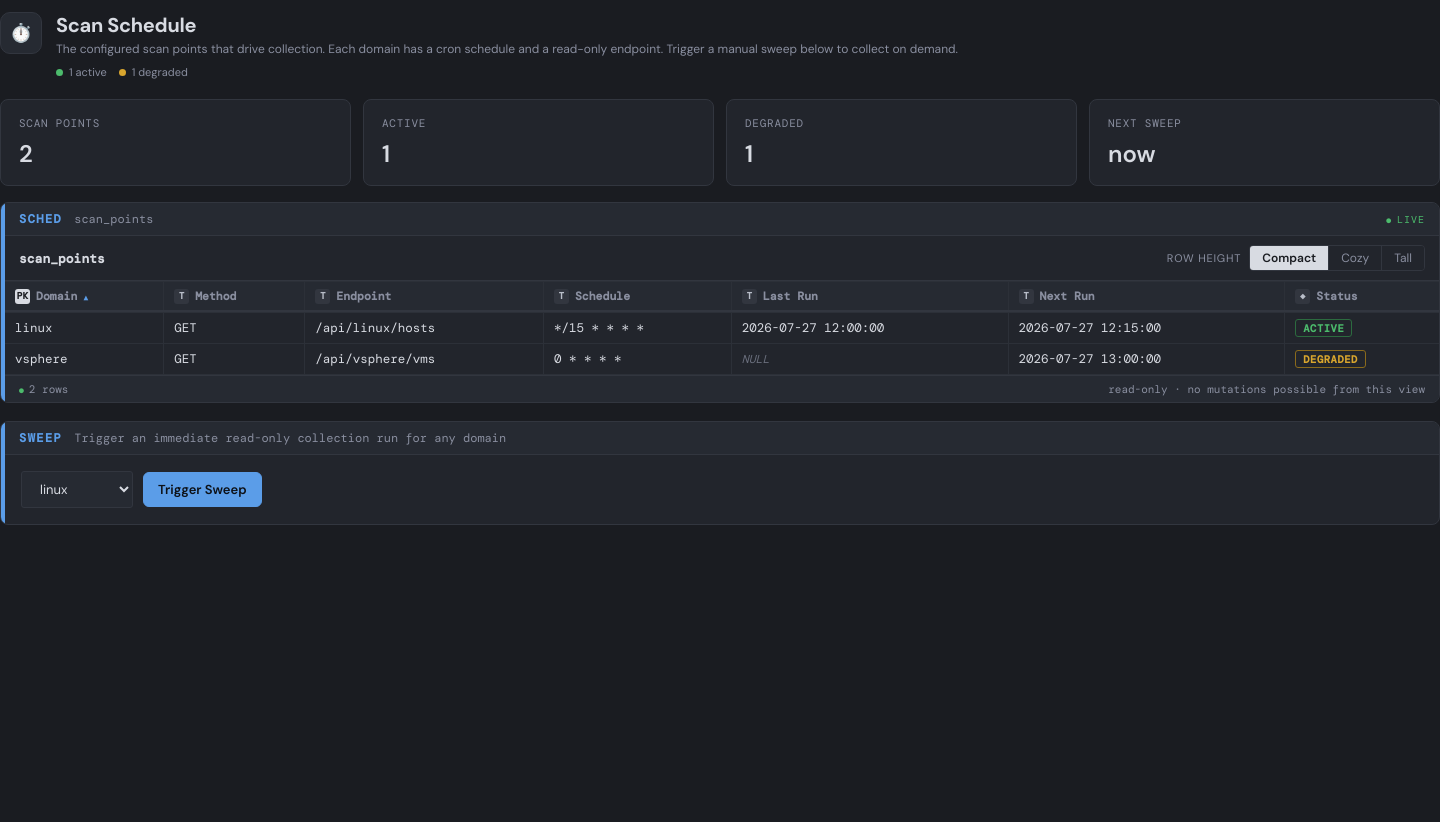
it: ScanSchedule page — Phase 3 design-system rebuild › Manual Sweep result message box (outcome-accuracy regression guard) › shows a red/error message (not the hardcoded-green regression) on a 409 already-in-progress response
Check: the text "linux" is shown, box 5,312 -> 164,344
What coordinates should you click on to do the following:
click the button "Trigger Sweep"
I would click on:
 (202, 490)
Its box is 143,472 -> 262,507.
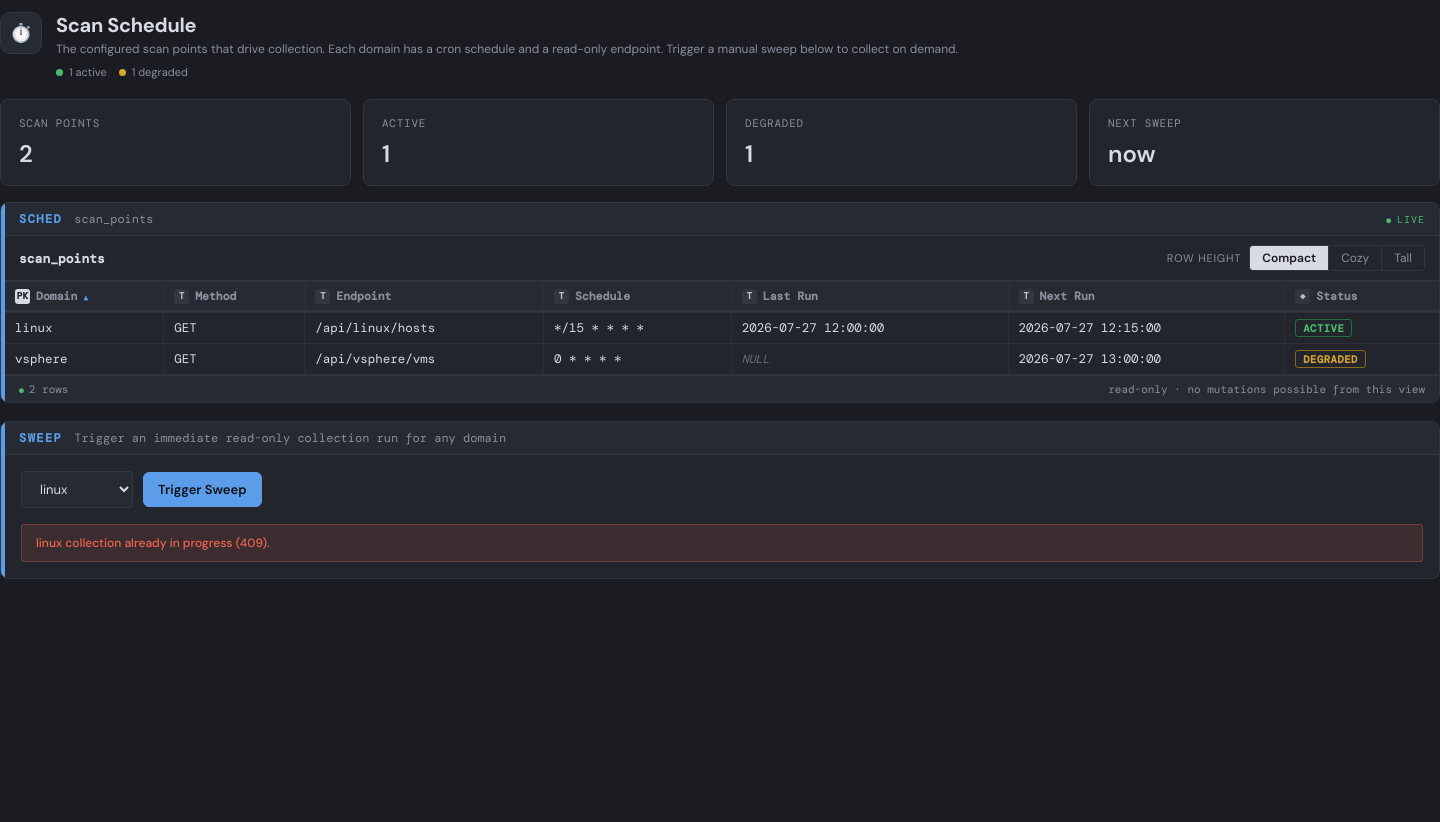
Check: the text "linux collection already in progress (409)." is shown, box 21,524 -> 1423,562
